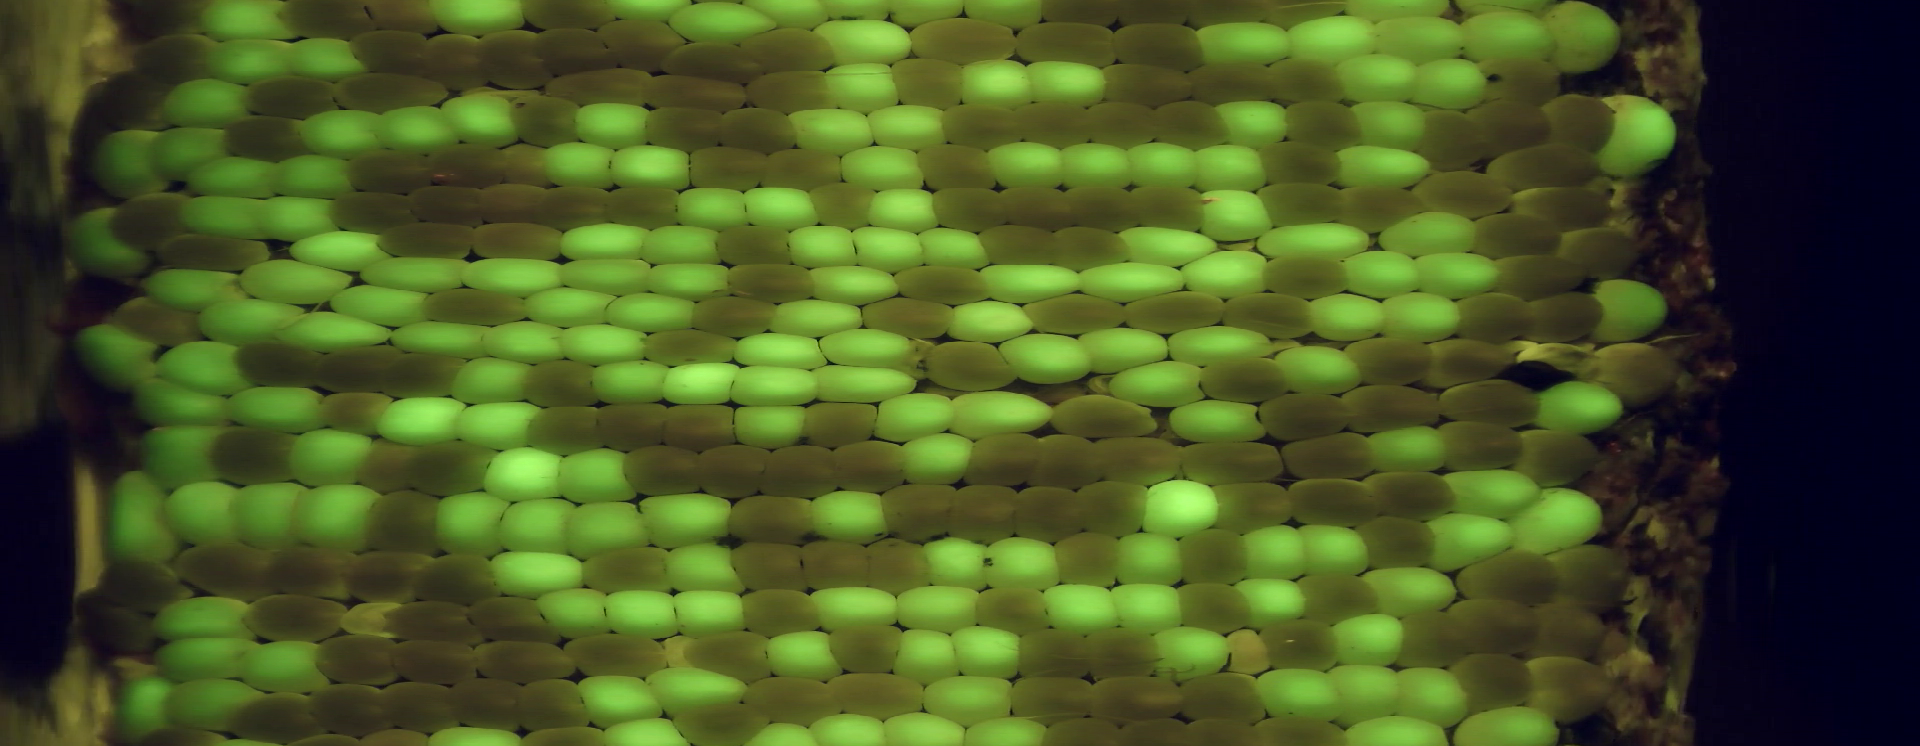fluorescent: (1584, 87, 1682, 184), (96, 467, 189, 565), (1496, 484, 1607, 561), (60, 202, 160, 281), (69, 318, 163, 401), (152, 675, 271, 737), (158, 478, 251, 557), (231, 633, 340, 699), (216, 381, 333, 442), (288, 481, 388, 552), (220, 477, 312, 554), (639, 660, 754, 722), (151, 337, 261, 401), (120, 375, 238, 434), (231, 255, 362, 307), (1540, 1, 1630, 78), (136, 420, 227, 496), (629, 488, 741, 549), (1419, 510, 1523, 575), (1249, 661, 1351, 728), (192, 295, 313, 350), (1455, 5, 1562, 66), (1524, 377, 1627, 441), (89, 126, 173, 205), (1583, 276, 1676, 345), (1439, 465, 1549, 524), (1357, 562, 1462, 624), (945, 385, 1054, 443), (991, 330, 1097, 390), (144, 590, 266, 643), (280, 423, 375, 490), (1188, 18, 1303, 73), (429, 486, 516, 559), (569, 669, 670, 731), (550, 443, 643, 511), (268, 307, 399, 355), (1100, 356, 1212, 412), (148, 635, 273, 684), (1278, 10, 1382, 69), (1133, 474, 1224, 540), (811, 15, 918, 71), (661, 537, 754, 601), (175, 187, 279, 245), (280, 225, 397, 277), (140, 122, 231, 187), (484, 548, 589, 604), (1145, 621, 1234, 687), (448, 394, 549, 453), (478, 443, 568, 508), (1160, 321, 1280, 370), (323, 281, 443, 330), (367, 100, 467, 159), (371, 394, 476, 450), (916, 674, 1019, 730), (1367, 13, 1469, 70), (1074, 258, 1191, 307), (1269, 342, 1367, 401), (1374, 208, 1483, 261), (891, 423, 980, 488), (133, 263, 256, 310), (490, 494, 579, 557), (558, 499, 653, 559), (291, 105, 392, 162), (446, 354, 546, 410), (664, 1, 779, 50), (1407, 247, 1505, 305), (867, 386, 959, 447), (1162, 393, 1269, 446), (440, 88, 523, 156), (1444, 701, 1567, 746), (977, 532, 1067, 594), (1390, 664, 1476, 729), (181, 152, 287, 205), (156, 72, 258, 126), (1322, 660, 1404, 728), (804, 584, 902, 641), (1374, 289, 1466, 349), (973, 258, 1089, 306), (1254, 220, 1375, 266), (940, 296, 1044, 349), (1332, 141, 1436, 194), (355, 252, 473, 299), (1177, 245, 1276, 300), (860, 96, 956, 152), (758, 624, 849, 684), (811, 322, 916, 374), (720, 363, 830, 412), (1325, 610, 1409, 674), (1344, 96, 1434, 156), (1209, 97, 1299, 156), (980, 137, 1070, 196), (947, 621, 1029, 686), (1040, 579, 1127, 641), (1409, 53, 1493, 116), (1292, 521, 1378, 582), (1360, 423, 1453, 479), (835, 141, 937, 192), (1074, 325, 1173, 377), (473, 317, 572, 370), (800, 260, 906, 309), (807, 488, 894, 548), (1051, 138, 1141, 196), (1114, 223, 1229, 268), (806, 363, 927, 405), (891, 582, 986, 637), (782, 107, 878, 160), (1189, 141, 1278, 198), (1118, 136, 1205, 195), (1330, 49, 1420, 105), (602, 141, 697, 195), (819, 58, 904, 118), (596, 582, 681, 642), (762, 295, 873, 341), (552, 218, 658, 266), (1196, 186, 1280, 246), (277, 33, 373, 85), (1022, 56, 1111, 113), (724, 401, 818, 453), (951, 55, 1041, 110), (202, 36, 298, 87), (458, 255, 569, 299), (587, 356, 677, 410), (1336, 249, 1427, 303), (193, 1, 307, 44), (637, 220, 733, 271), (533, 586, 613, 646), (109, 674, 184, 739), (1109, 530, 1191, 589), (1304, 290, 1391, 345), (1227, 573, 1311, 630), (553, 255, 661, 299), (383, 318, 497, 360), (250, 191, 349, 239), (887, 626, 964, 687), (729, 327, 833, 372), (922, 534, 994, 599), (669, 586, 748, 644), (268, 151, 361, 201), (599, 289, 699, 336), (653, 360, 743, 412), (1236, 521, 1307, 586), (738, 181, 825, 234), (670, 183, 754, 236), (518, 288, 623, 331), (847, 219, 931, 273), (540, 137, 620, 194), (571, 99, 658, 151), (422, 1, 536, 40), (555, 323, 650, 370), (640, 261, 740, 305), (861, 183, 942, 236), (1104, 579, 1182, 635), (916, 222, 994, 274), (1336, 713, 1456, 746), (782, 222, 863, 271), (594, 710, 699, 746), (876, 709, 973, 746), (802, 710, 902, 746), (736, 1, 838, 36), (958, 1, 1049, 34), (960, 715, 1056, 746), (421, 722, 535, 746), (598, 1, 700, 24), (740, 718, 823, 746)
nonfluorescent: (1518, 653, 1618, 730), (1447, 545, 1567, 609), (1536, 541, 1640, 614), (1584, 334, 1686, 408), (1478, 138, 1605, 196), (69, 583, 163, 660), (169, 538, 277, 604), (233, 587, 354, 646), (1442, 595, 1549, 661), (203, 424, 309, 490), (358, 483, 447, 560), (260, 539, 361, 606), (469, 628, 582, 688), (1430, 375, 1547, 432), (400, 439, 504, 502), (373, 593, 489, 650), (899, 15, 1022, 67), (920, 336, 1024, 398), (1005, 16, 1120, 72), (305, 341, 410, 402), (1172, 434, 1291, 488), (1048, 391, 1169, 443), (1521, 597, 1615, 664), (143, 229, 279, 276), (1507, 426, 1607, 490), (740, 673, 849, 730), (220, 688, 329, 746), (1273, 428, 1382, 485), (98, 187, 198, 250), (338, 546, 440, 608), (1445, 649, 1536, 718), (329, 66, 453, 116), (1480, 247, 1596, 301), (1431, 414, 1531, 477), (1199, 479, 1304, 538), (955, 425, 1047, 492), (227, 337, 333, 394), (1118, 285, 1234, 338), (304, 676, 396, 742), (733, 22, 841, 78), (1256, 612, 1349, 677), (216, 109, 316, 169), (306, 630, 407, 690), (1359, 468, 1460, 528), (1251, 388, 1360, 443), (823, 668, 932, 723), (1104, 20, 1209, 77), (1409, 167, 1520, 220), (1291, 567, 1384, 631), (722, 490, 819, 551), (1142, 96, 1240, 156), (1340, 331, 1438, 391), (1247, 178, 1358, 230), (107, 292, 211, 348), (1464, 208, 1569, 265), (545, 62, 659, 114), (1016, 290, 1133, 341), (558, 628, 675, 679), (336, 143, 443, 197), (1472, 51, 1569, 111), (1217, 290, 1322, 345), (636, 66, 751, 116), (411, 546, 506, 608), (441, 673, 531, 736), (1533, 92, 1624, 156), (88, 557, 195, 611), (1411, 103, 1491, 174), (1337, 380, 1444, 434), (654, 36, 765, 87), (418, 284, 538, 332), (684, 627, 780, 687), (1509, 183, 1620, 234), (124, 29, 225, 86), (1281, 473, 1382, 529), (471, 24, 555, 93), (1172, 669, 1271, 726), (1078, 624, 1171, 685), (1093, 58, 1201, 110), (718, 256, 823, 310), (725, 535, 816, 598), (234, 72, 347, 122), (1200, 352, 1298, 409), (1466, 92, 1554, 156), (460, 216, 569, 267), (1420, 334, 1520, 391), (1520, 285, 1613, 345), (1553, 220, 1643, 282), (1087, 673, 1193, 725), (464, 590, 564, 646), (686, 442, 778, 502), (877, 478, 960, 544), (371, 677, 470, 733), (1450, 288, 1540, 348), (591, 16, 686, 73), (796, 532, 879, 597), (758, 440, 842, 503), (967, 581, 1058, 639), (940, 481, 1022, 546), (94, 69, 178, 132), (416, 27, 493, 96), (1280, 96, 1368, 156), (519, 402, 607, 462), (1021, 432, 1109, 492), (740, 65, 847, 114), (1256, 250, 1354, 304), (384, 635, 482, 688), (633, 325, 749, 370), (1007, 480, 1086, 546), (639, 100, 729, 159), (1258, 55, 1357, 108), (932, 100, 1031, 153), (891, 261, 998, 310), (353, 431, 427, 501), (1336, 180, 1433, 234), (1172, 526, 1255, 588), (511, 675, 605, 730), (373, 350, 474, 402), (324, 183, 420, 236), (1171, 577, 1260, 635), (1014, 624, 1100, 684), (911, 141, 1004, 196), (973, 218, 1067, 273), (1009, 97, 1100, 153), (1184, 56, 1283, 108), (504, 88, 588, 149), (735, 584, 824, 641), (669, 699, 776, 746), (822, 620, 909, 677), (659, 398, 743, 457), (1393, 604, 1466, 673), (1356, 514, 1441, 572), (1007, 671, 1104, 722), (1086, 432, 1182, 484), (1073, 475, 1151, 538), (1046, 528, 1124, 590), (1078, 96, 1168, 149), (519, 358, 610, 412), (829, 436, 909, 497), (1251, 138, 1351, 187), (751, 145, 852, 192), (855, 294, 959, 341), (531, 22, 624, 73), (598, 180, 691, 232), (370, 222, 481, 265), (800, 397, 884, 453), (860, 534, 934, 598), (274, 1, 382, 45), (684, 141, 773, 195), (343, 26, 435, 77), (595, 396, 672, 457), (927, 183, 1016, 235), (713, 104, 803, 156), (1060, 179, 1142, 235), (686, 293, 782, 341), (1125, 181, 1209, 236), (1048, 222, 1135, 274), (419, 138, 509, 189), (312, 387, 400, 439), (92, 401, 154, 473), (707, 220, 797, 269), (800, 178, 882, 232), (887, 56, 966, 111), (998, 180, 1078, 234), (530, 181, 617, 230), (474, 178, 553, 228), (402, 183, 490, 227), (1247, 710, 1356, 746), (107, 1, 196, 43), (360, 1, 451, 37), (1111, 709, 1198, 746), (1177, 713, 1271, 746), (500, 138, 557, 190), (1032, 717, 1133, 746), (509, 722, 620, 746)
